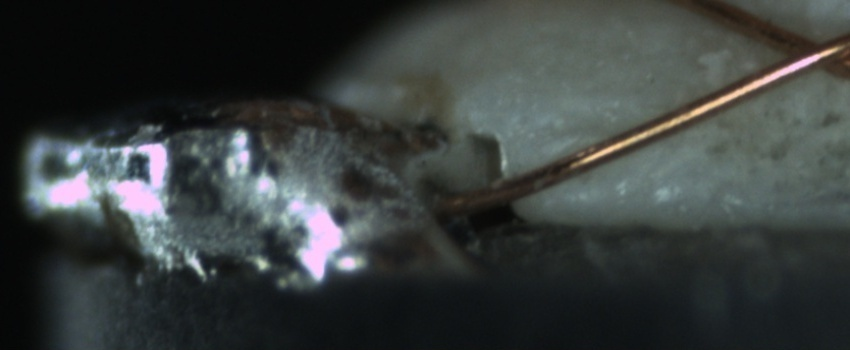CL: (757, 16, 849, 82)
